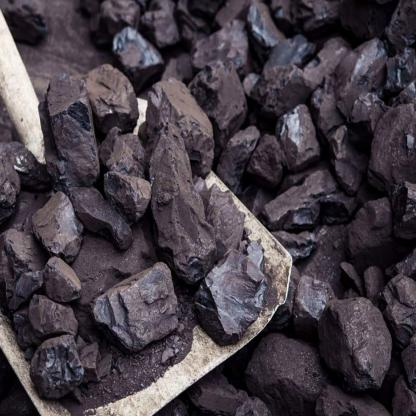Sedimentary_coal: (143, 121, 210, 282), (93, 254, 185, 341), (46, 73, 104, 186), (331, 289, 391, 391), (28, 192, 83, 264), (80, 64, 140, 130), (276, 95, 321, 171), (108, 26, 167, 77), (30, 330, 84, 382), (0, 230, 43, 291)
